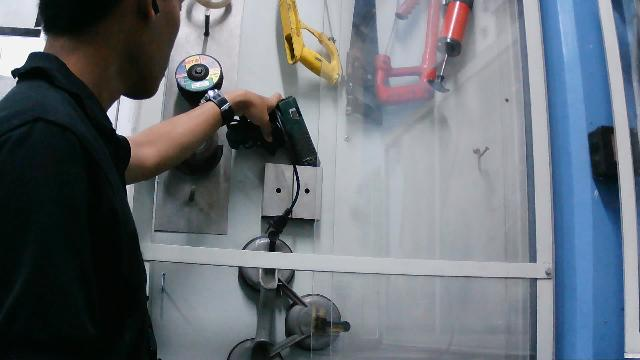gun_lem: (221, 83, 326, 178)
